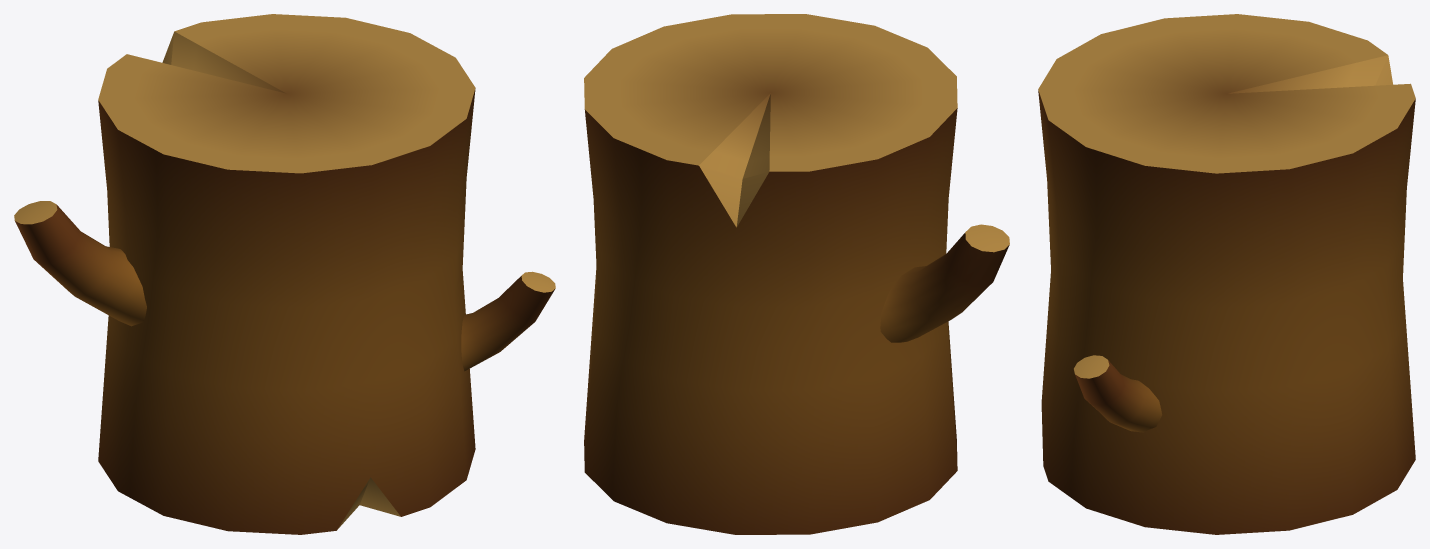
Rendered from WoodLog02.fbx.
The picture shows the model from 3 angles, left to right: view 1: azimuth 30°, elevation 25°; view 2: azimuth 150°, elevation 25°; view 3: azimuth 270°, elevation 25°; orthographic projection.
Visible parts, largest first — view 1: LOD0; view 2: LOD0; view 3: LOD0.
Part boxes in pixels (left/top/right/bottom): LOD0: left=14, top=14, right=555, bottom=534; LOD0: left=584, top=14, right=1009, bottom=534; LOD0: left=1038, top=14, right=1415, bottom=534.
Size of what is drawn, in the model's own units: 101 by 73.21 by 77.28.
